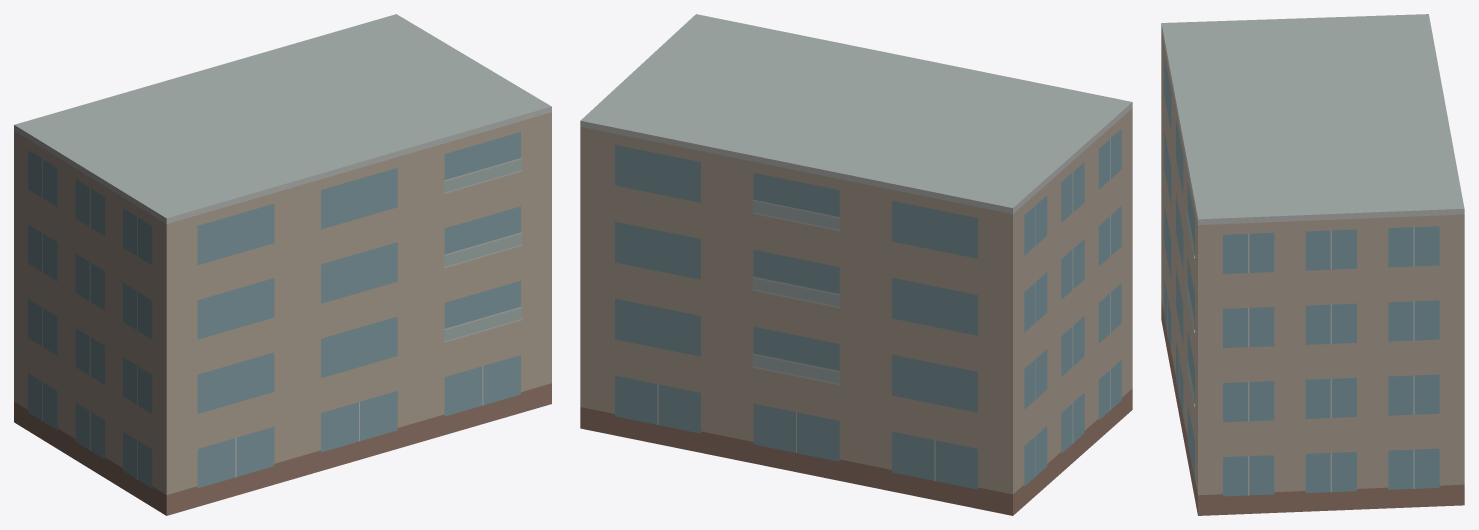
File: survey-upis-32757677.glb
The picture shows the model from 3 angles, left to right: view 1: azimuth 30°, elevation 25°; view 2: azimuth 150°, elevation 25°; view 3: azimuth 270°, elevation 25°; orthographic projection. The views are drawn at different scales.
Visible parts, largest first — view 1: survey-upis-32757677.tmp; view 2: survey-upis-32757677.tmp; view 3: survey-upis-32757677.tmp.
Boxes of the visible parts, x1,y1,x2,y2 form: survey-upis-32757677.tmp: (14,14,551,515); survey-upis-32757677.tmp: (580,14,1132,515); survey-upis-32757677.tmp: (1161,14,1464,515).
Size of the model in its own units: 18.68 by 12.57 by 11.66.
